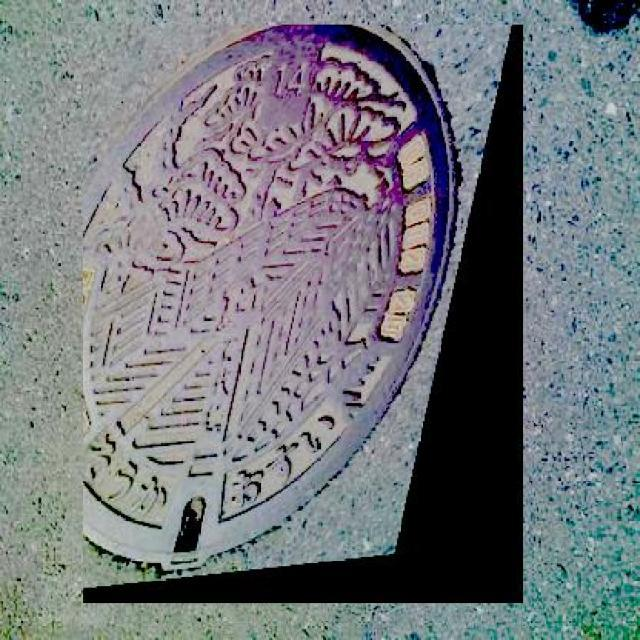Manhole: (83, 23, 526, 602)
